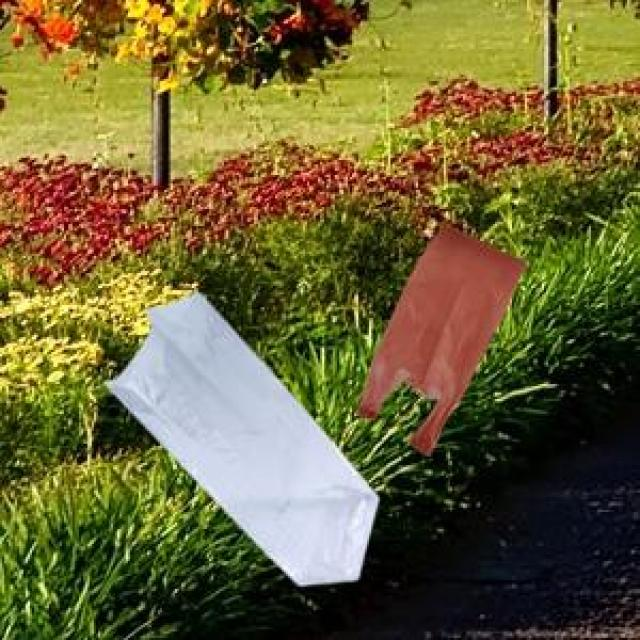plastic: (82, 168, 561, 592)
